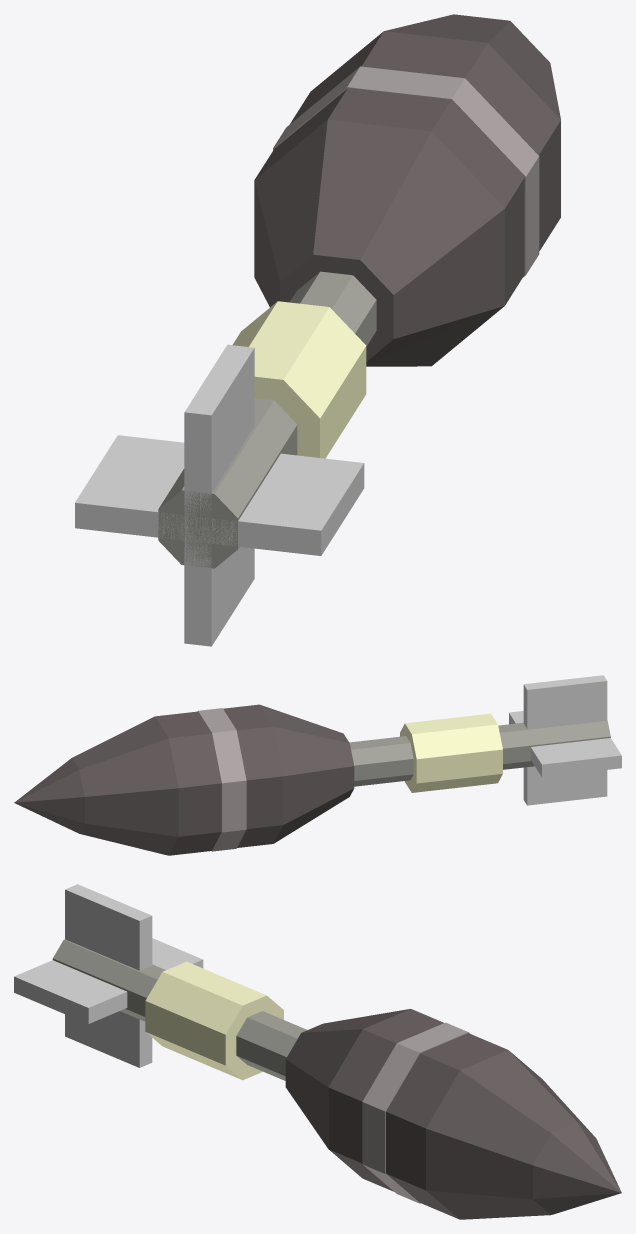
Rendered from ce_ammo_mortar_deadlife_a.obj.
3 views of the same model, one above another, from view 1: azimuth 30°, elevation 25°; view 2: azimuth 150°, elevation 25°; view 3: azimuth 270°, elevation 25° (orthographic). The views are drawn at different scales.
Parts seen in each view (by area): view 1: ce_ammo_mortar_deadlife_a_2, ce_ammo_mortar_deadlife_a_8, ce_ammo_mortar_deadlife_a_9, ce_ammo_mortar_deadlife_a_1, ce_ammo_mortar_deadlife_a_0, ce_ammo_mortar_deadlife_a_5, ce_ammo_mortar_deadlife_a_3, ce_ammo_mortar_deadlife_a_4, ce_ammo_mortar_deadlife_a_6; view 2: ce_ammo_mortar_deadlife_a_6, ce_ammo_mortar_deadlife_a_2, ce_ammo_mortar_deadlife_a_1, ce_ammo_mortar_deadlife_a_9, ce_ammo_mortar_deadlife_a_5, ce_ammo_mortar_deadlife_a_0, ce_ammo_mortar_deadlife_a_3, ce_ammo_mortar_deadlife_a_4, ce_ammo_mortar_deadlife_a_8, ce_ammo_mortar_deadlife_a_7; view 3: ce_ammo_mortar_deadlife_a_6, ce_ammo_mortar_deadlife_a_1, ce_ammo_mortar_deadlife_a_9, ce_ammo_mortar_deadlife_a_5, ce_ammo_mortar_deadlife_a_3, ce_ammo_mortar_deadlife_a_0, ce_ammo_mortar_deadlife_a_7, ce_ammo_mortar_deadlife_a_2, ce_ammo_mortar_deadlife_a_8, ce_ammo_mortar_deadlife_a_4.
Part boxes in pixels (<box>): ce_ammo_mortar_deadlife_a_2: <box>254,119,504,366</box>; ce_ammo_mortar_deadlife_a_8: <box>75,435,364,555</box>; ce_ammo_mortar_deadlife_a_9: <box>184,344,254,646</box>; ce_ammo_mortar_deadlife_a_1: <box>232,301,366,458</box>; ce_ammo_mortar_deadlife_a_0: <box>158,271,376,568</box>; ce_ammo_mortar_deadlife_a_5: <box>290,31,560,250</box>; ce_ammo_mortar_deadlife_a_3: <box>255,88,524,305</box>; ce_ammo_mortar_deadlife_a_4: <box>273,66,539,277</box>; ce_ammo_mortar_deadlife_a_6: <box>384,14,560,119</box>; ce_ammo_mortar_deadlife_a_6: <box>72,716,178,855</box>; ce_ammo_mortar_deadlife_a_2: <box>260,704,354,843</box>; ce_ammo_mortar_deadlife_a_1: <box>400,713,502,792</box>; ce_ammo_mortar_deadlife_a_9: <box>523,675,607,805</box>; ce_ammo_mortar_deadlife_a_5: <box>155,711,221,855</box>; ce_ammo_mortar_deadlife_a_0: <box>349,720,610,786</box>; ce_ammo_mortar_deadlife_a_3: <box>223,704,283,847</box>; ce_ammo_mortar_deadlife_a_4: <box>197,708,246,851</box>; ce_ammo_mortar_deadlife_a_8: <box>509,711,621,777</box>; ce_ammo_mortar_deadlife_a_7: <box>14,758,84,833</box>; ce_ammo_mortar_deadlife_a_6: <box>426,1050,595,1219</box>; ce_ammo_mortar_deadlife_a_1: <box>145,961,283,1080</box>; ce_ammo_mortar_deadlife_a_9: <box>65,884,152,1067</box>; ce_ammo_mortar_deadlife_a_5: <box>386,1033,507,1219</box>; ce_ammo_mortar_deadlife_a_3: <box>328,1009,443,1191</box>; ce_ammo_mortar_deadlife_a_0: <box>52,939,307,1080</box>; ce_ammo_mortar_deadlife_a_7: <box>533,1122,621,1214</box>; ce_ammo_mortar_deadlife_a_2: <box>285,1009,409,1148</box>; ce_ammo_mortar_deadlife_a_8: <box>14,938,203,1023</box>; ce_ammo_mortar_deadlife_a_4: <box>362,1022,469,1203</box>.
Size of the model in its own units: 0.7495 by 0.2052 by 0.7495.
